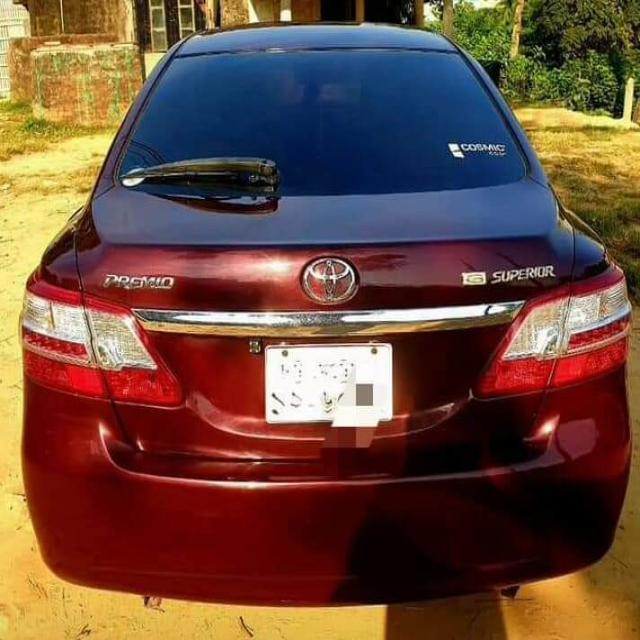maroon: (19, 22, 624, 605)
